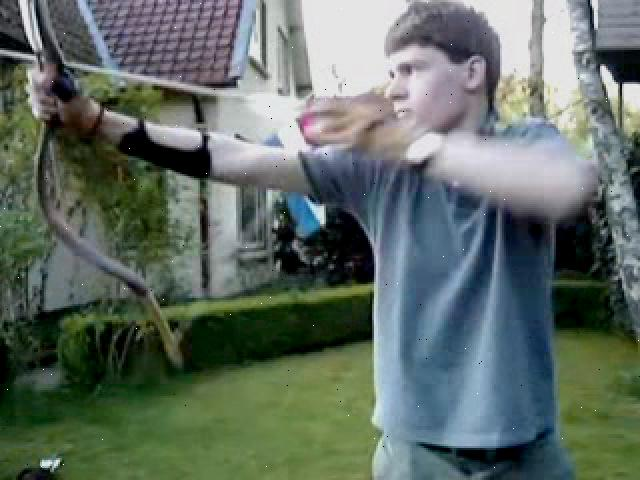P: (30, 7, 592, 474)
